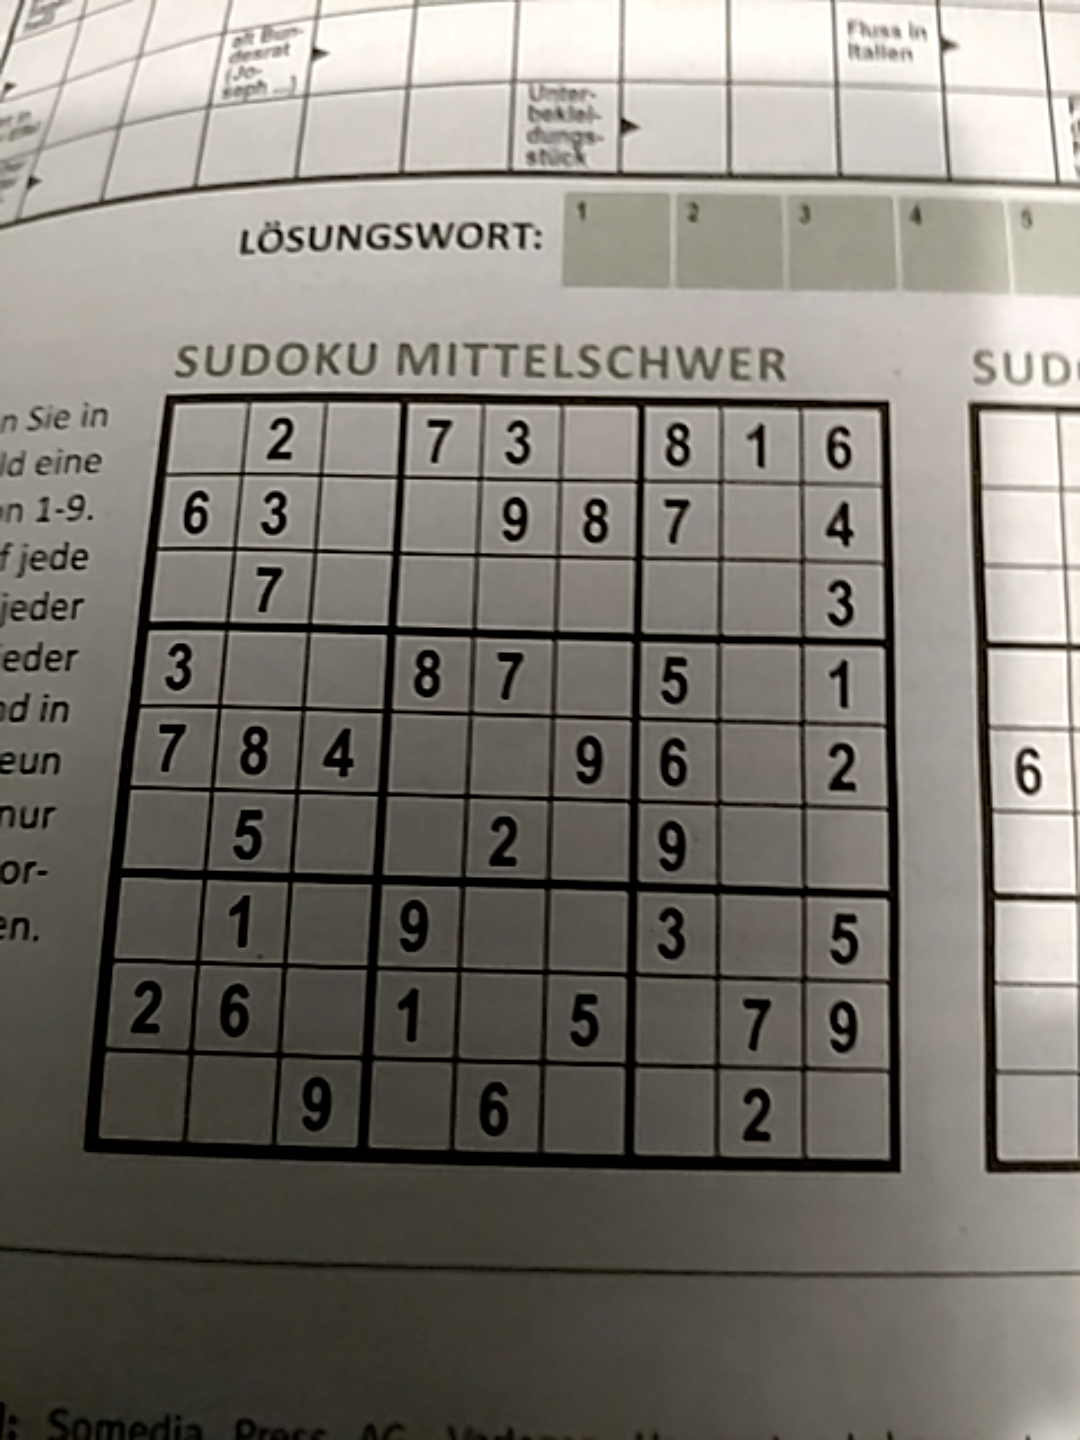sudoku: (92, 391, 907, 1181)
